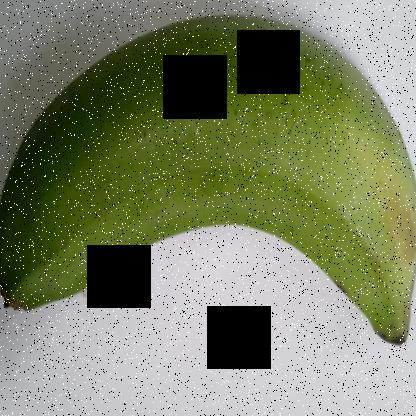freshunripe: (1, 3, 415, 369)
